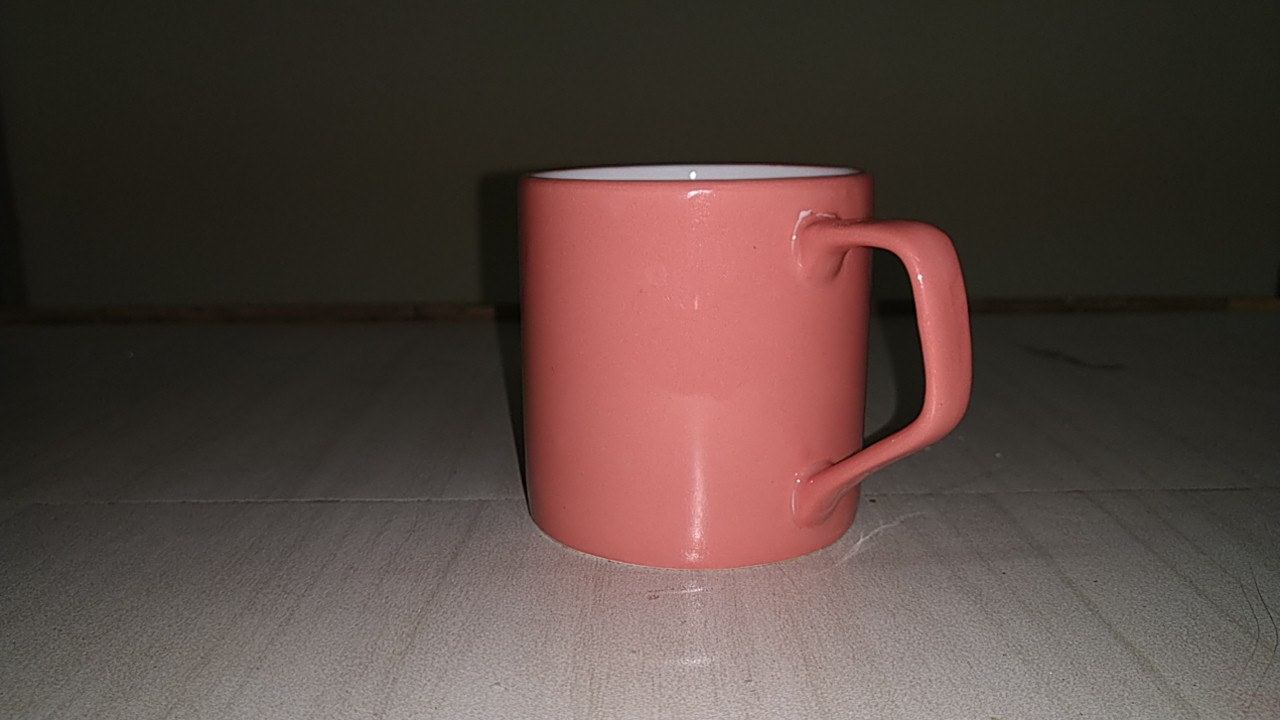cup: (490, 144, 996, 598)
